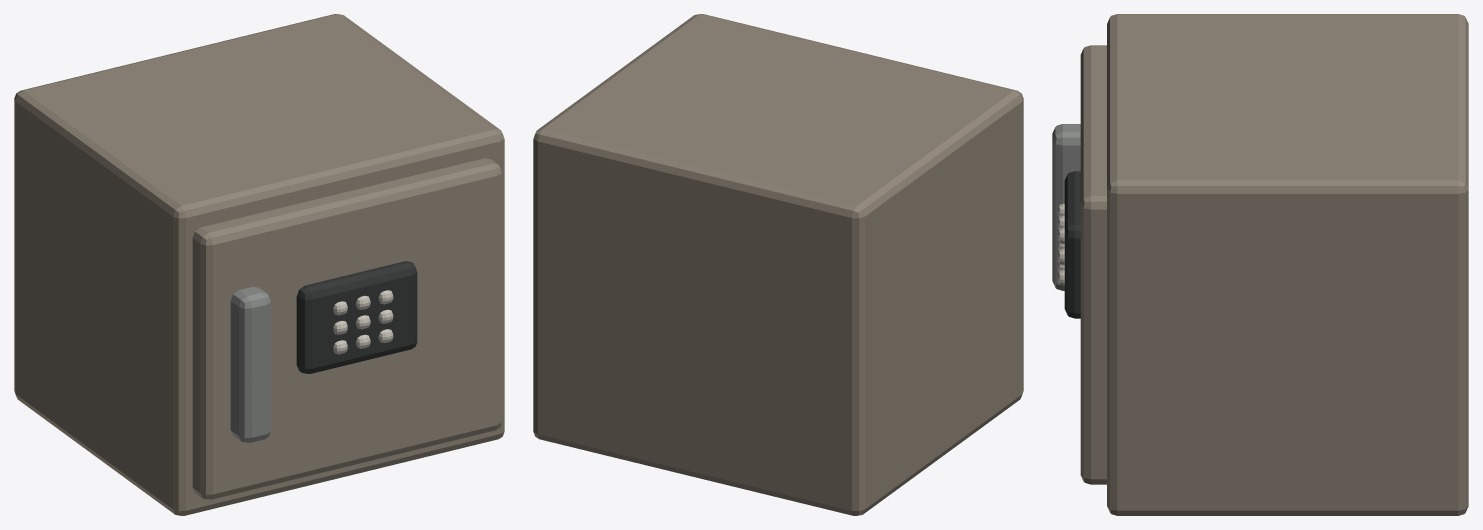
File: SM_DocumentSafe.glb
3 renders of one model, left to right at view 1: azimuth 30°, elevation 25°; view 2: azimuth 150°, elevation 25°; view 3: azimuth 270°, elevation 25°, orthographic. The views are drawn at different scales.
Visible parts, largest first — view 1: Key.008; view 2: Key.008; view 3: Key.008.
Boxes of the visible parts, box(x1,y1,x2,y2) form: Key.008: box(14, 14, 504, 515); Key.008: box(533, 14, 1023, 515); Key.008: box(1052, 14, 1468, 515).
Bounding box in the file's own units: 0.48 × 0.43 × 0.4836.
